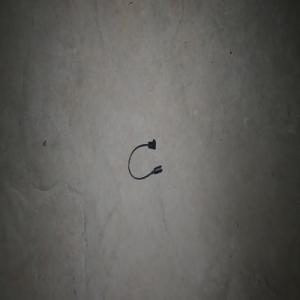Wire: (128, 139, 162, 179)
